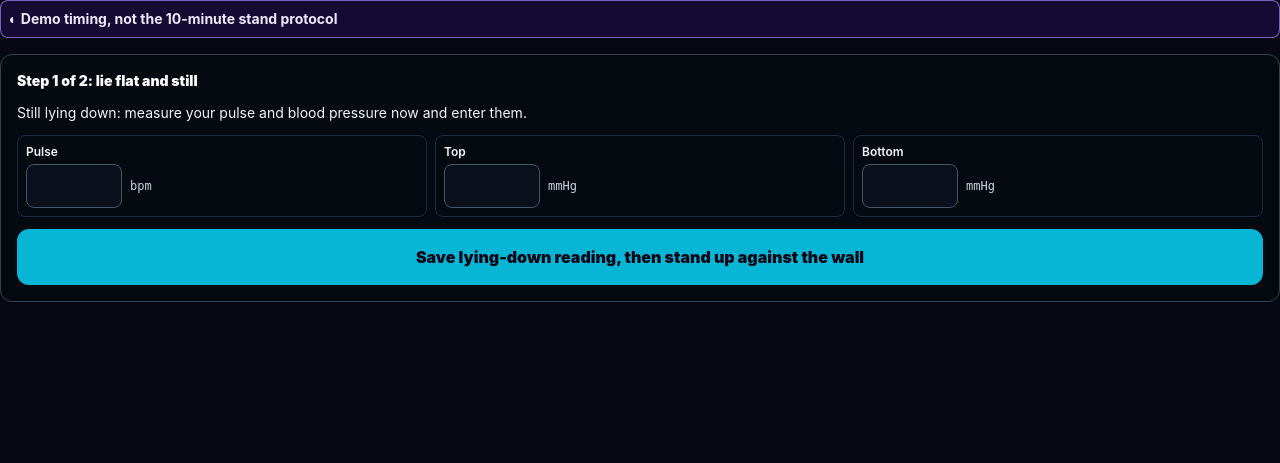
Scenario: T-5 StandTest screen › runs the full stand with readings at each checkpoint, then submits once
Earlier steps of the test are not shown.
Later steps or results of the test are not shown.
Type "60" into the field with test id "stand-heart_rate" at (74, 186), box [26, 164, 122, 208]
Type "118" into the field with test id "stand-bp_systolic" at (492, 186), box [444, 164, 540, 208]
Type "76" into the field with test id "stand-bp_diastolic" at (910, 186), box [862, 164, 958, 208]
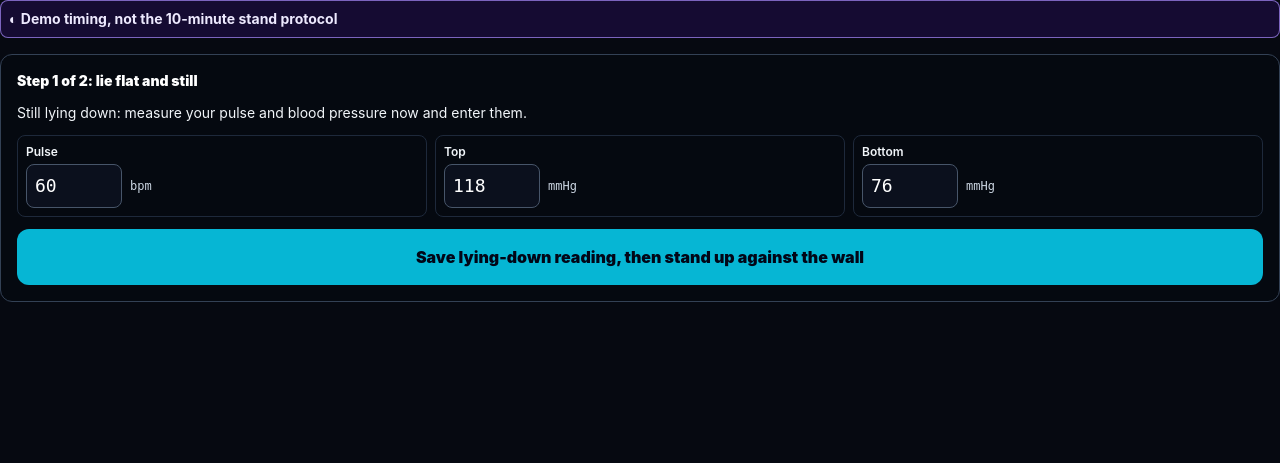
Click the button with test id "stand-save-supine" at (640, 257), box [17, 229, 1263, 285]
Wait 6000 ms
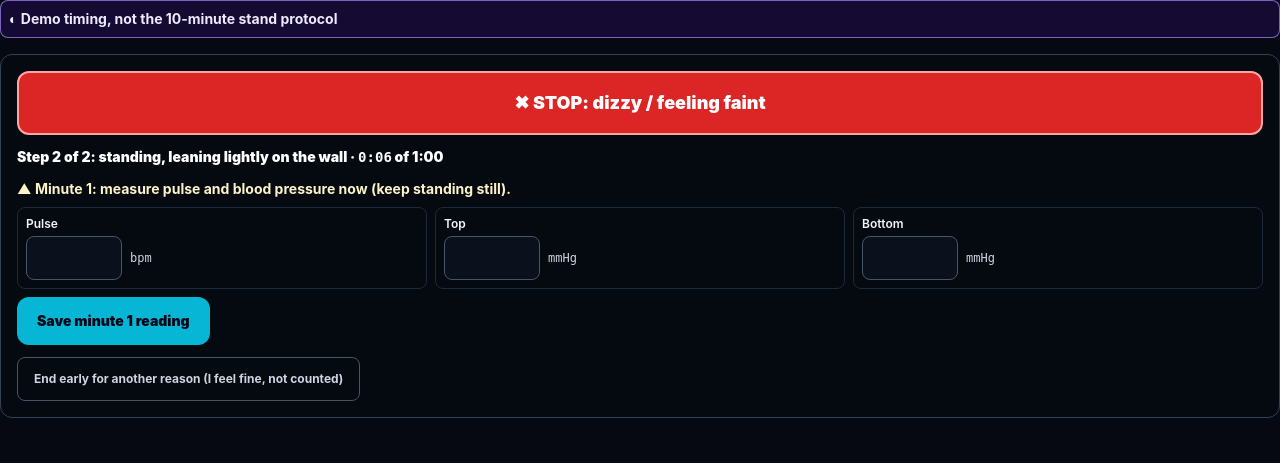
Type "70" into the field with test id "stand-heart_rate" at (74, 258), box [26, 236, 122, 280]
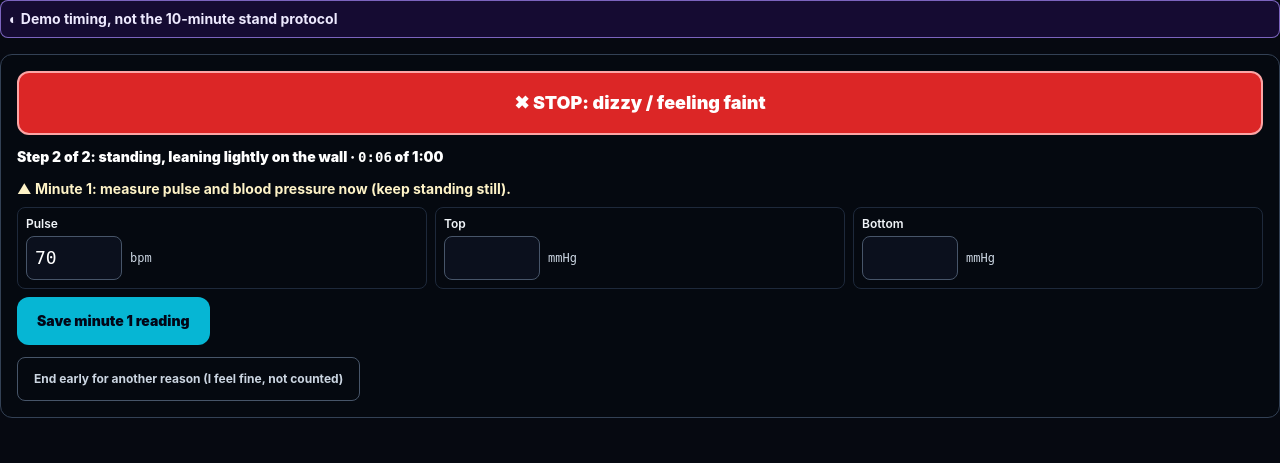
Type "116" into the field with test id "stand-bp_systolic" at (492, 258), box [444, 236, 540, 280]
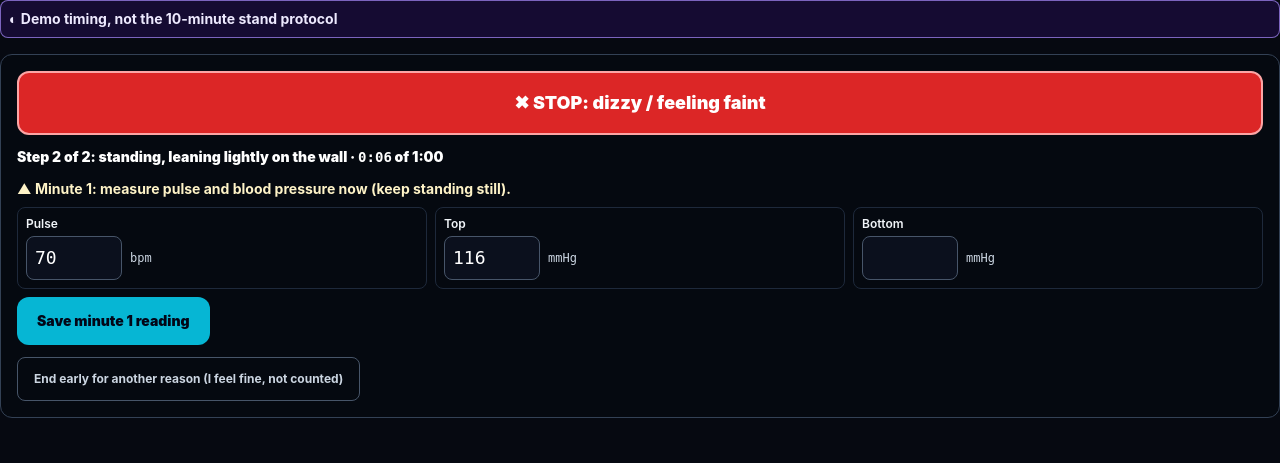
Type "78" into the field with test id "stand-bp_diastolic" at (910, 258), box [862, 236, 958, 280]
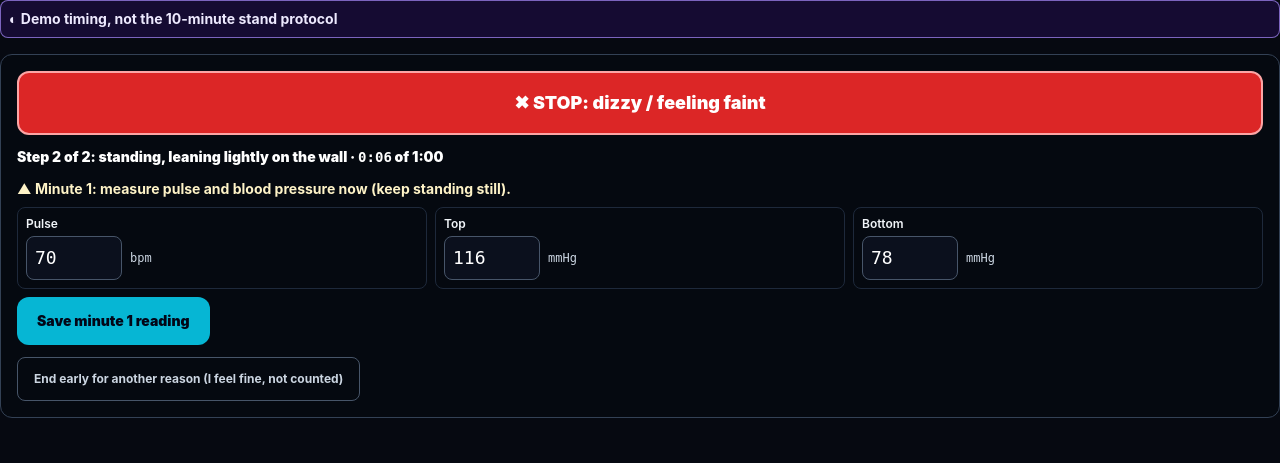
Click the button with test id "stand-save-reading" at (113, 321), box [17, 297, 210, 345]
Wait 12000 ms
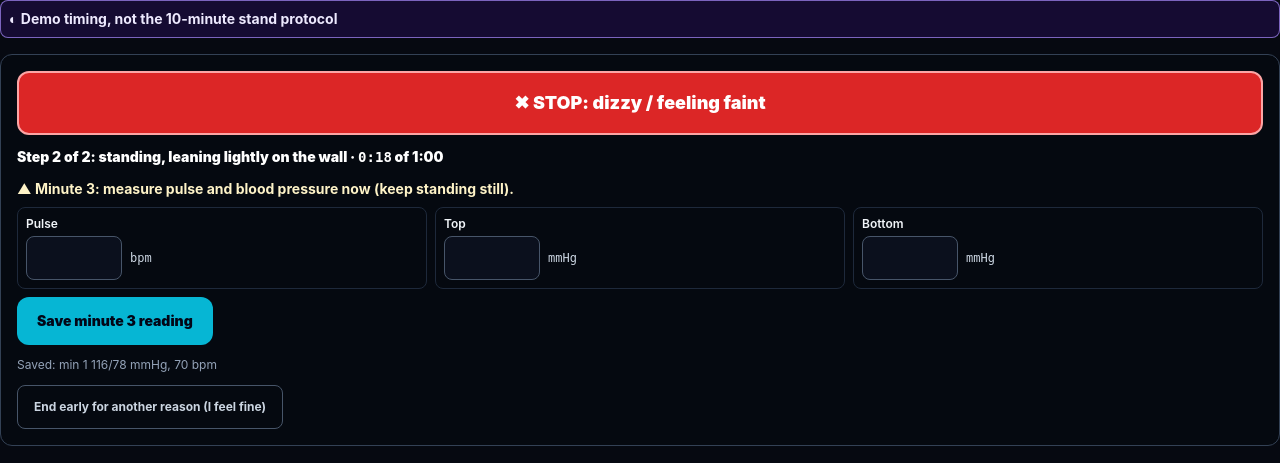
Expected: the element with test id "stand-checkpoint-3" is shown, [17, 179, 1263, 345]
